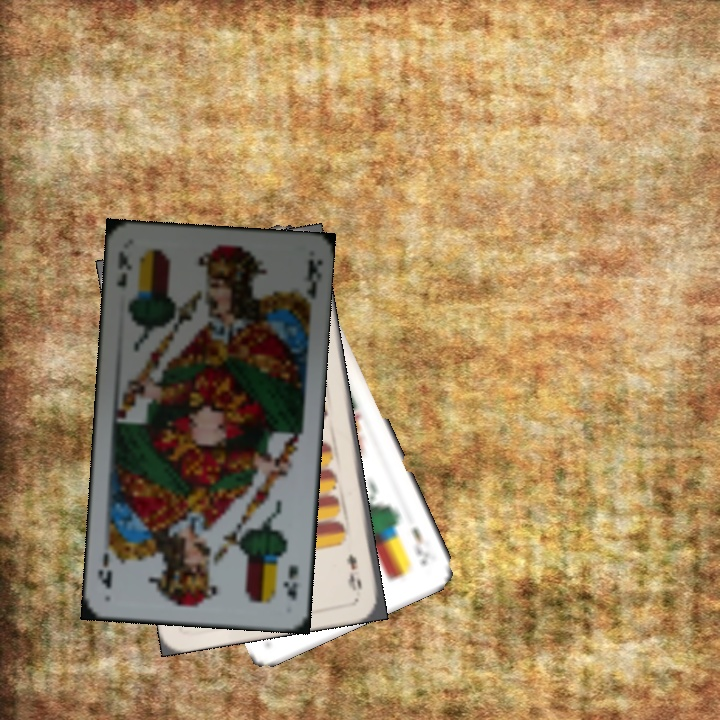E9: (343, 550, 365, 593)
EK: (407, 524, 432, 569), (279, 561, 302, 603), (113, 247, 135, 290)
